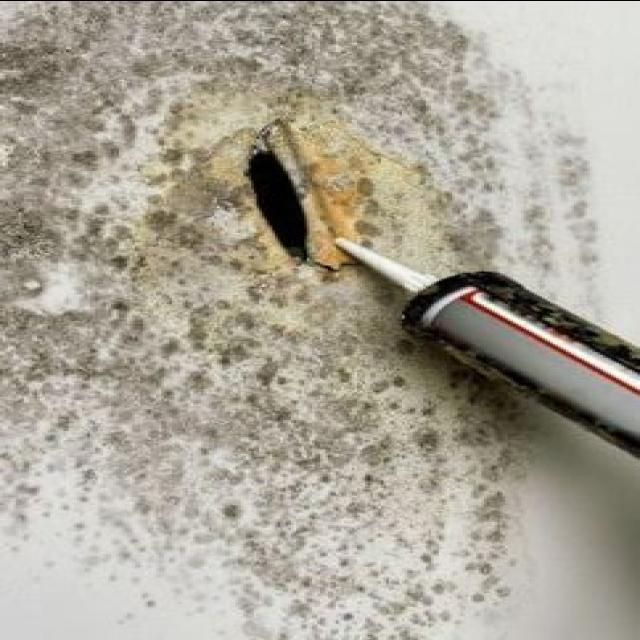Crack: (250, 134, 316, 261)
